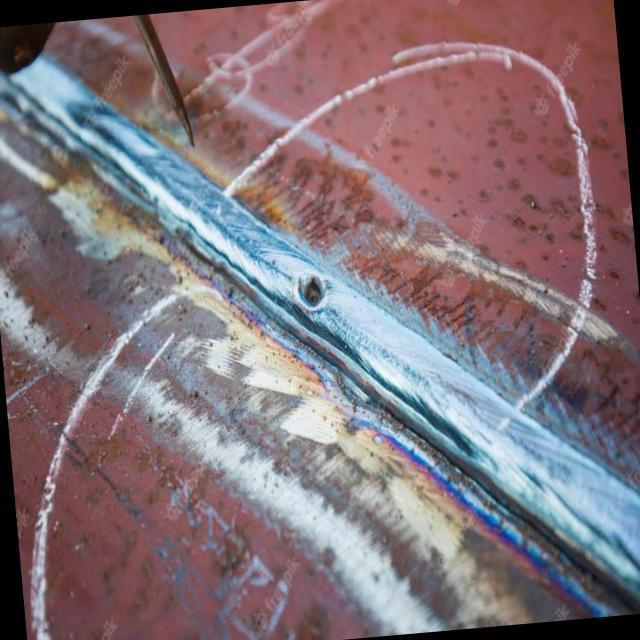defect: (294, 271, 329, 313)
